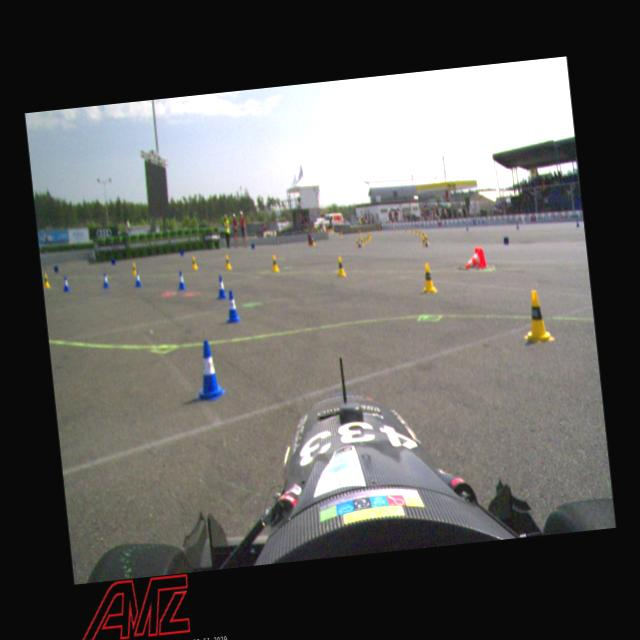blue_cone: (189, 338, 226, 400), (222, 288, 240, 323), (214, 274, 227, 299), (175, 270, 186, 290), (100, 270, 110, 290), (133, 268, 142, 288), (61, 275, 70, 292), (424, 236, 428, 247)
orange_cone: (464, 246, 486, 270)
yellow_cone: (519, 288, 554, 344), (418, 261, 437, 294), (334, 255, 346, 276), (270, 254, 279, 273), (222, 254, 232, 270), (41, 272, 50, 288), (130, 261, 138, 277), (190, 254, 198, 270), (421, 236, 426, 246)
